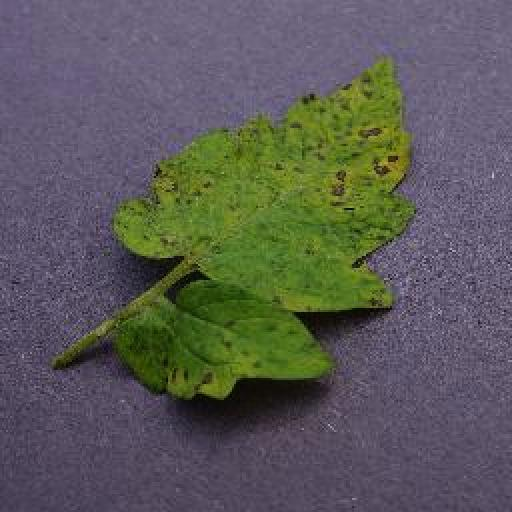disease_tomato: (116, 56, 418, 312)
